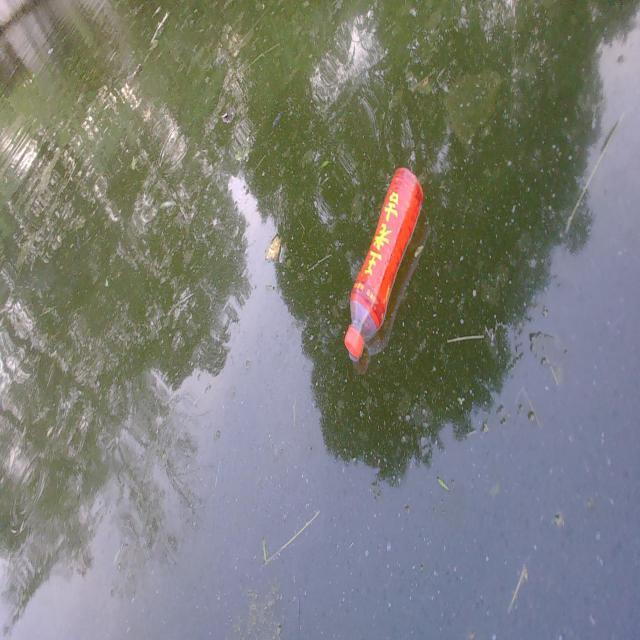bottle: (330, 135, 444, 393)
